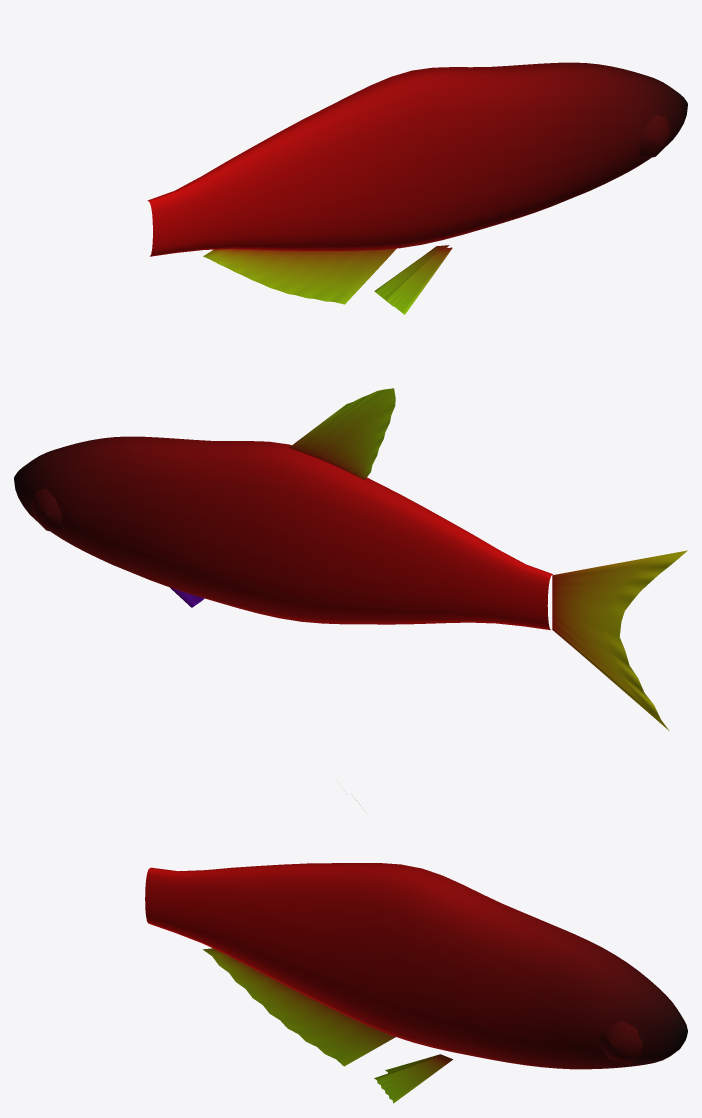
Rendered from cardinal_tetra_2.glb.
The picture shows the model from 3 angles, top to bottom: view 1: azimuth 30°, elevation 25°; view 2: azimuth 150°, elevation 25°; view 3: azimuth 330°, elevation 25°; orthographic projection.
Parts seen in each view (by area): view 1: body, eye; view 2: body, eye; view 3: body, eye.
Boxes of the visible parts, box(x1,y1,x2,y2) form: body: box(147, 62, 687, 314); eye: box(639, 114, 670, 159); body: box(14, 388, 687, 730); eye: box(31, 488, 62, 533); body: box(145, 795, 687, 1103); eye: box(599, 1021, 643, 1063).
Size of the model in its own units: 0.0873 by 0.0394 by 0.01.
